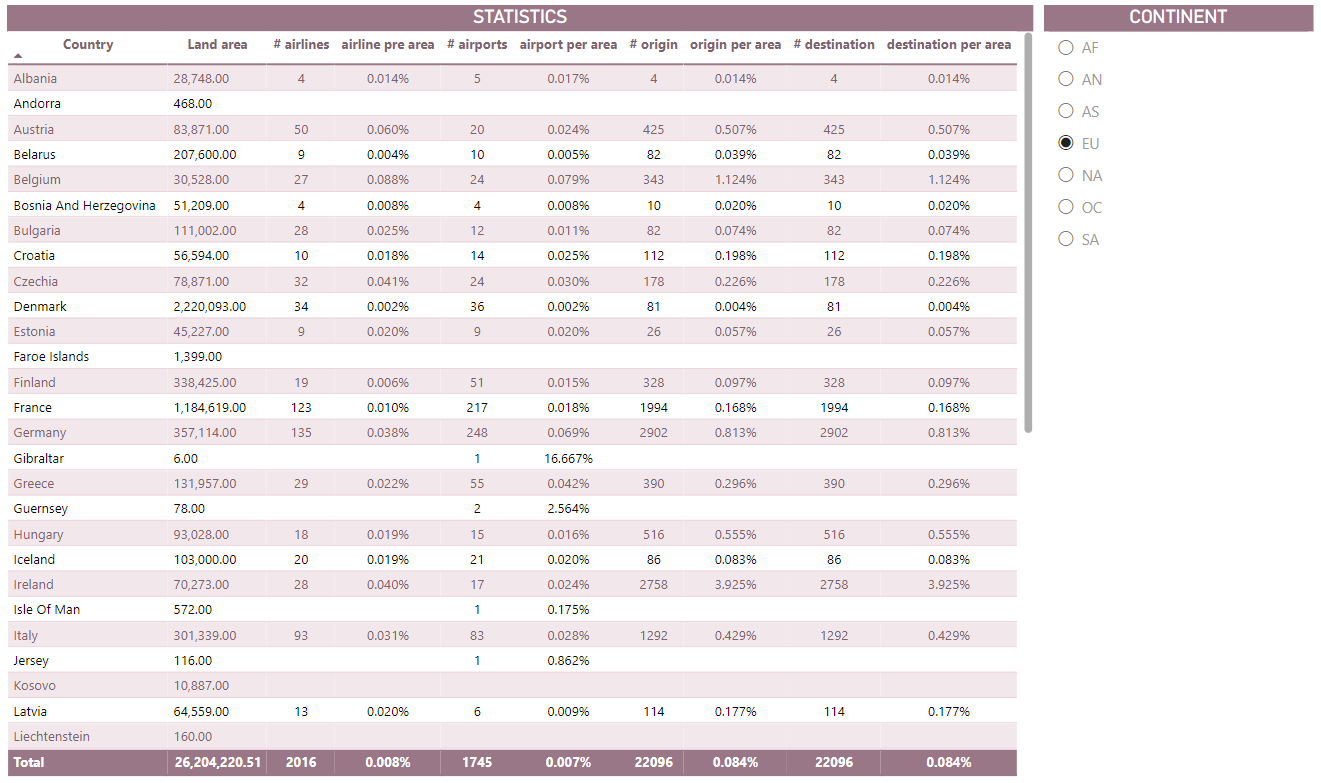

The dashboard page shown, as its layout file describes it:
{"tool":"powerbi","page":{"name":"Density per country","canvas":[1280,720],"ordinal":2},"visuals":[{"type":"tableEx","title":"STATISTICS","fields":{"Values":["country_view.name","Sum(countries_by_area.area)","airline_view.country_name","airline_view.Count of country_name divided by area","airport_view.country","airport_view.Count of country divided by area","route_info_view.origin_airport_country","route_info_view.Count of origin_airport_country divided by area","route_info_view.destination_airport_country","route_info_view.Count of destination_airport_country divided by area"]},"box":[11.8,9.1,932.7,700.9],"z":0},{"type":"slicer","title":"CONTINENT","fields":{"Values":["country_view.continent"]},"box":[954.5,9.1,244.5,243.6],"z":1}]}

Visuals, with their boxes in screenshot pixels (x1, y1, x2, y2):
"STATISTICS" tableEx: (37,30,1021,770)
"CONTINENT" slicer: (1031,30,1289,287)
